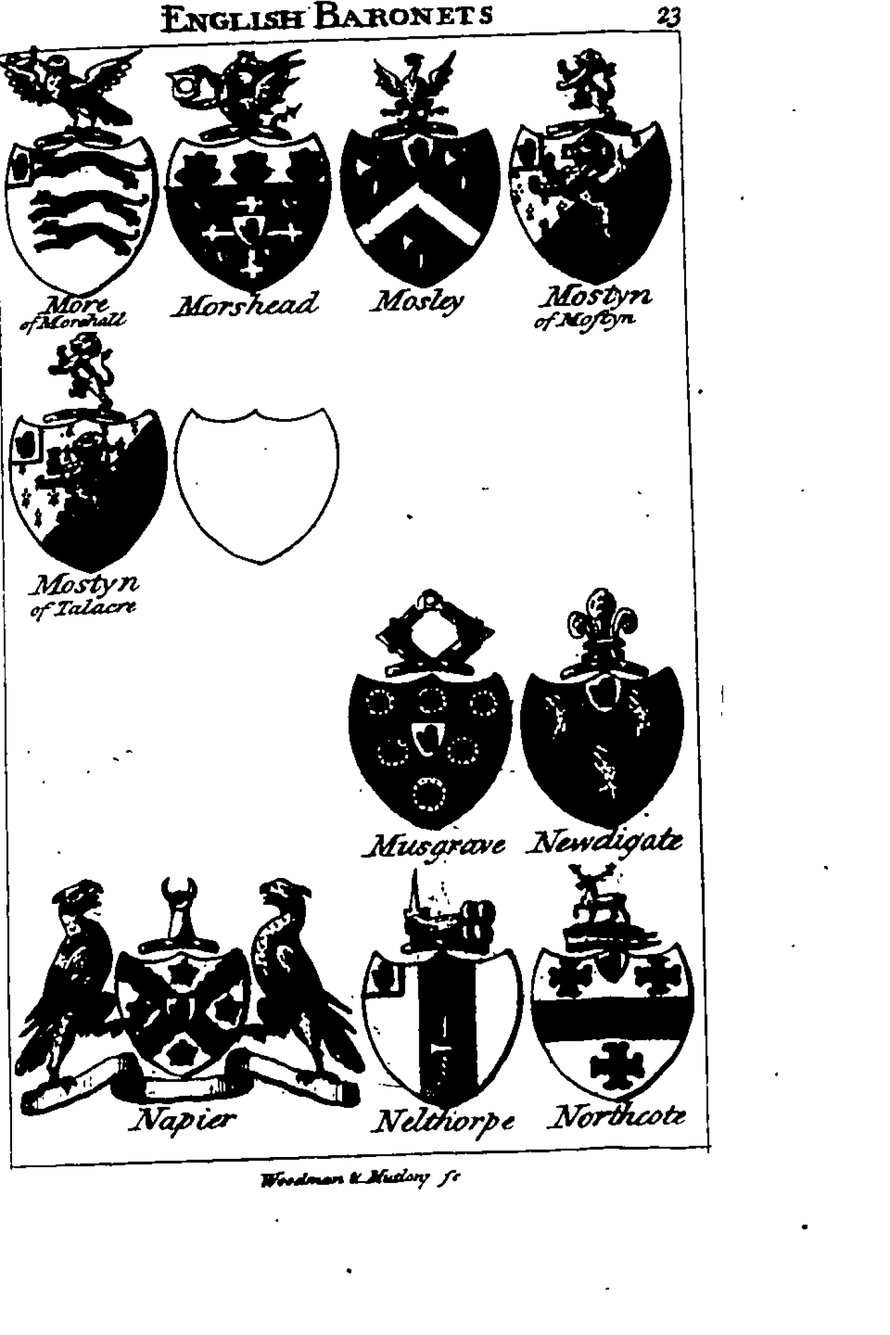coat_of_arms: (19, 849, 361, 1145)
